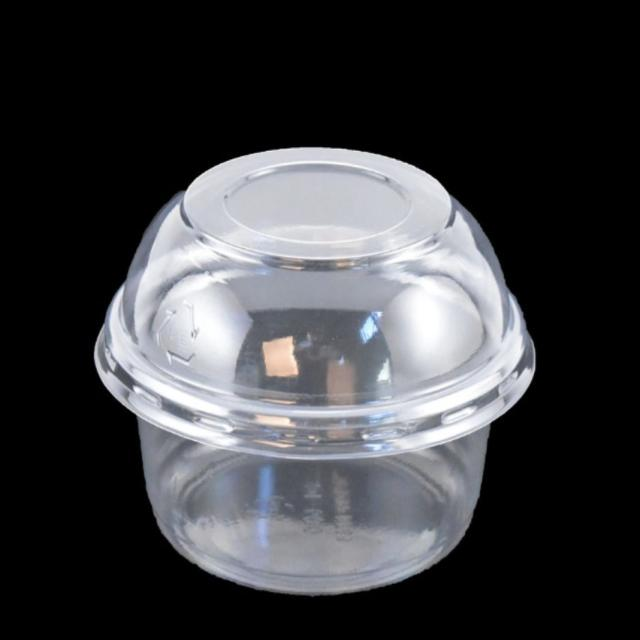recyclable: (93, 115, 533, 612)
